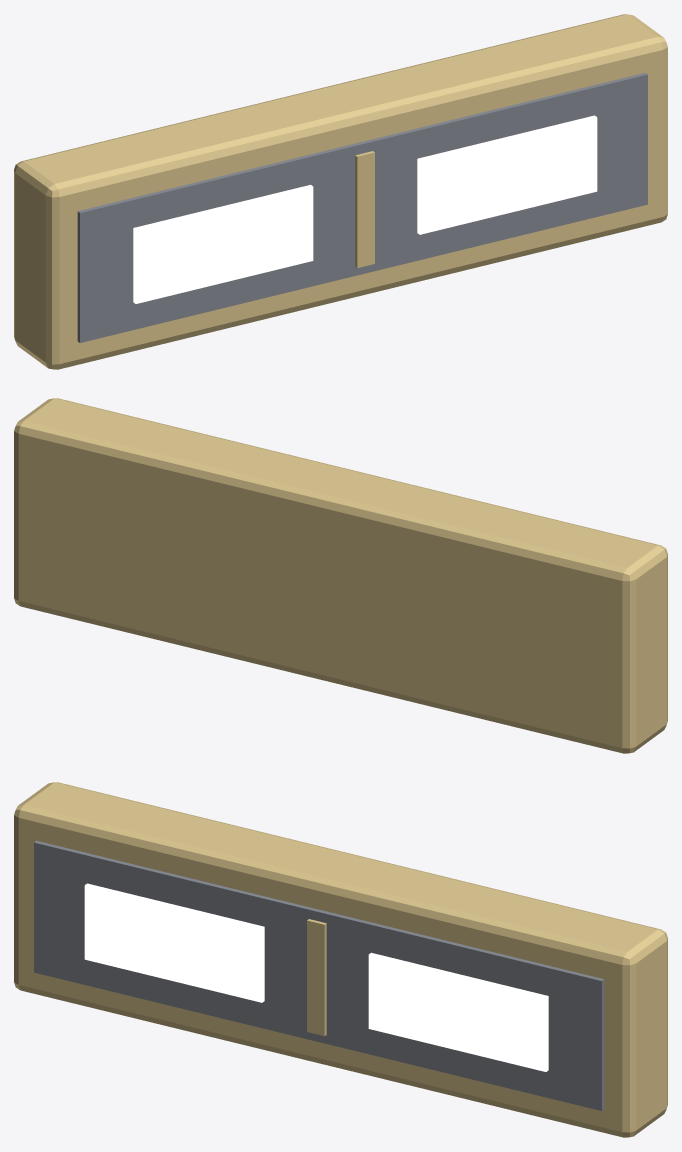
Rendered from prop_elevator_lantern.glb.
3 renders of one model, top to bottom at view 1: azimuth 30°, elevation 25°; view 2: azimuth 150°, elevation 25°; view 3: azimuth 330°, elevation 25°, orthographic.
Parts seen in each view (by area): view 1: Lantern, Windows; view 2: Lantern; view 3: Lantern, Windows.
Part boxes in pixels (x1,y1,x2,y2): Lantern: [14, 14, 667, 369]; Windows: [133, 115, 597, 303]; Lantern: [14, 398, 667, 753]; Lantern: [14, 782, 667, 1137]; Windows: [84, 883, 548, 1071].
Size of the model in its own units: 0.7 by 0.2 by 0.09.
